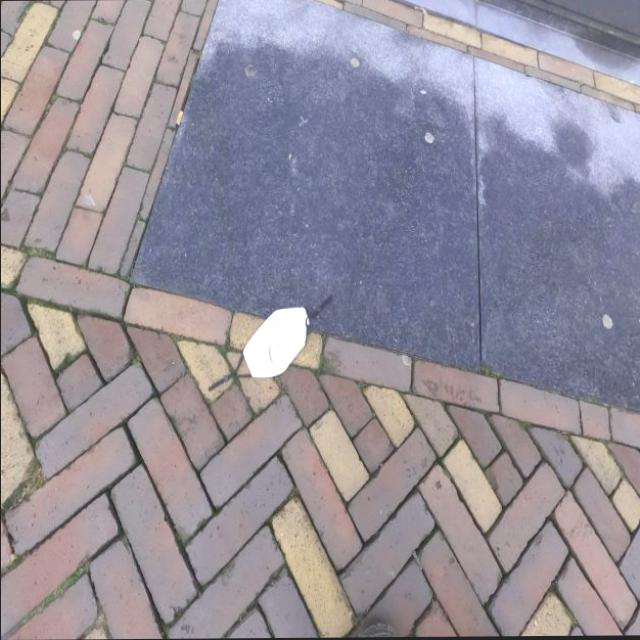Mask: (240, 301, 312, 382)
